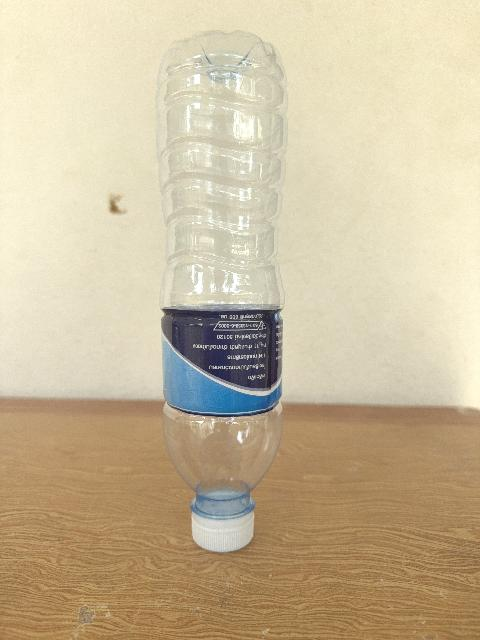bottle: (157, 32, 286, 551)
